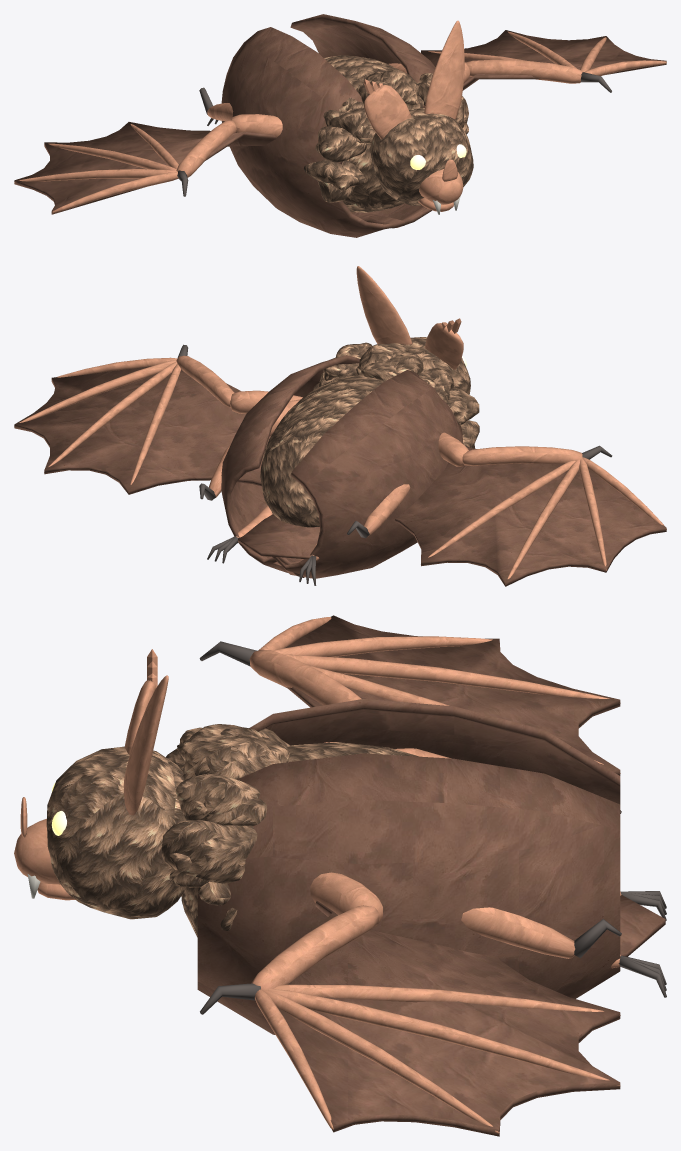
The model's file is cave_bat_v3.glb.
The picture shows the model from 3 angles, top to bottom: view 1: azimuth 30°, elevation 25°; view 2: azimuth 150°, elevation 25°; view 3: azimuth 270°, elevation 25°; orthographic projection. The views are drawn at different scales.
Parts seen in each view (by area): view 1: body, fold_l, wing_l, wing_r, fold_r; view 2: wing_l, wing_r, fold_l, body, fold_r; view 3: fold_r, wing_r, body, wing_l, fold_l.
Boxes of the visible parts, x1,y1,x2,y2 form: body: (207, 20, 473, 214); fold_l: (199, 27, 404, 237); wing_l: (14, 114, 282, 214); wing_r: (421, 30, 666, 92); fold_r: (290, 14, 435, 228); wing_l: (394, 432, 666, 586); wing_r: (14, 344, 302, 494); fold_l: (272, 370, 463, 578); body: (207, 266, 479, 585); fold_r: (199, 355, 360, 577); fold_r: (197, 753, 621, 1034); wing_r: (200, 872, 620, 1136); body: (14, 649, 666, 997); wing_l: (199, 615, 620, 775); fold_l: (249, 699, 621, 813).
Bounding box in the file's own units: 1.6 × 0.579 × 0.8651.
6 materials, 3 textured.
